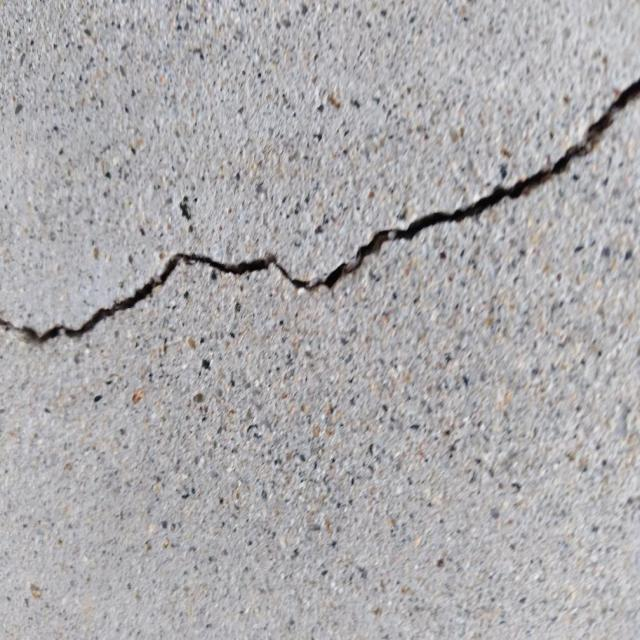diagonal crack: (0, 78, 639, 349)
